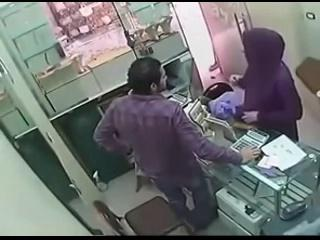Normal: (93, 57, 262, 230), (231, 28, 303, 142), (93, 196, 193, 236)
